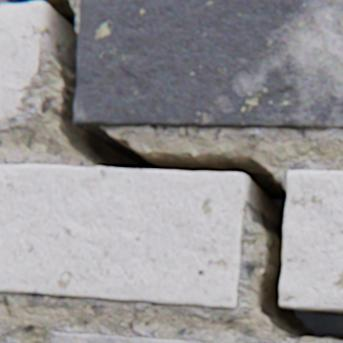brick: (0, 165, 246, 308), (75, 0, 342, 129), (279, 171, 342, 309), (0, 3, 45, 122), (55, 332, 198, 342)
crack: (0, 0, 342, 341)
